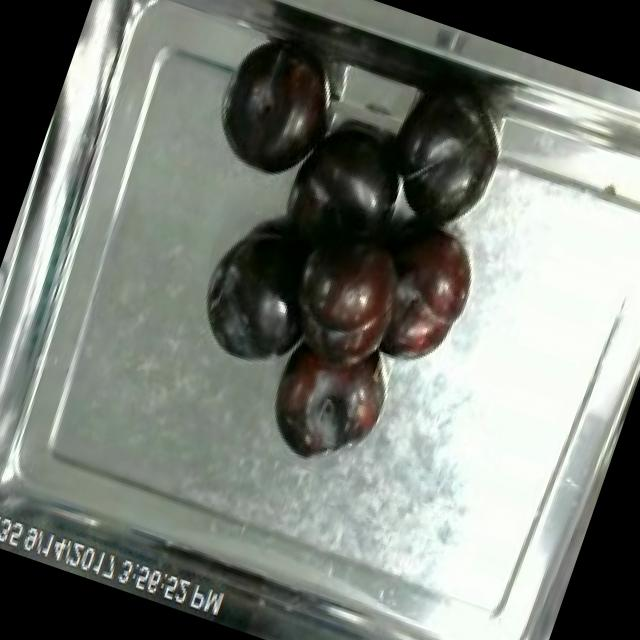Fruit: (183, 206, 334, 382), (248, 313, 406, 481), (198, 29, 352, 198), (358, 206, 499, 388), (281, 210, 422, 364)
